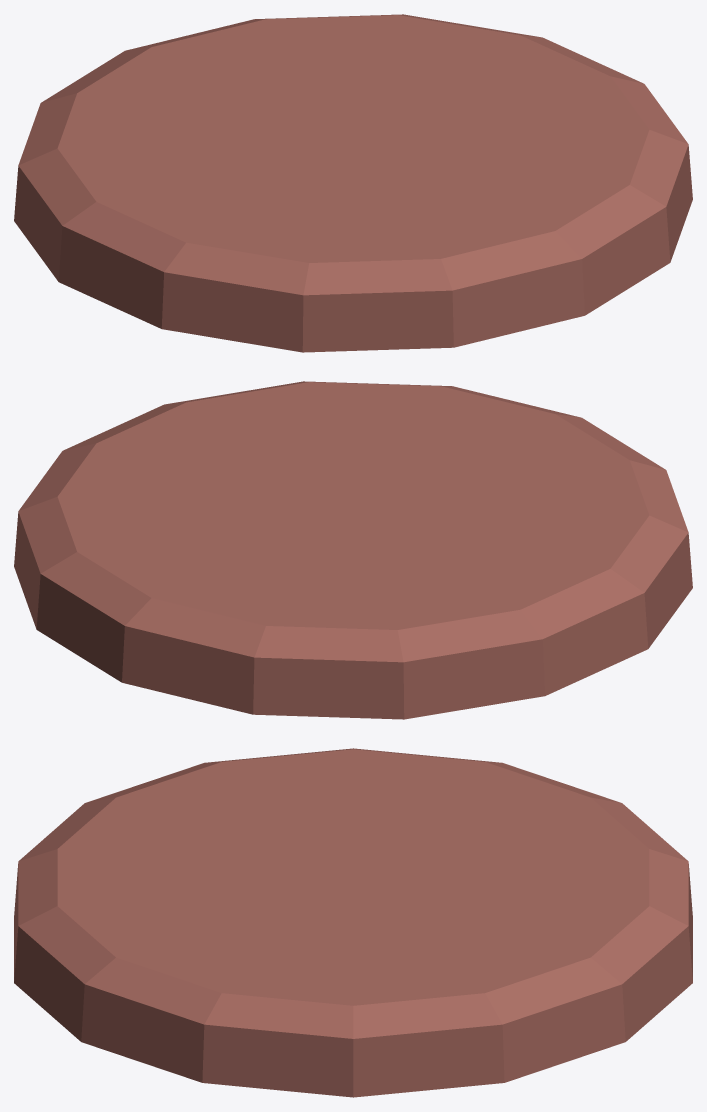
Rendered from Patty_Raw.glb.
The picture shows the model from 3 angles, top to bottom: view 1: azimuth 30°, elevation 25°; view 2: azimuth 150°, elevation 25°; view 3: azimuth 270°, elevation 25°; orthographic projection. The views are drawn at different scales.
Visible parts, largest first — view 1: Patty_Raw; view 2: Patty_Raw; view 3: Patty_Raw.
Part boxes in pixels (x1,y1,x2,y2): Patty_Raw: (14, 14, 692, 352); Patty_Raw: (14, 381, 692, 719); Patty_Raw: (14, 748, 692, 1097).
Size of the model in its own units: 0.156 by 0.022 by 0.1521.
